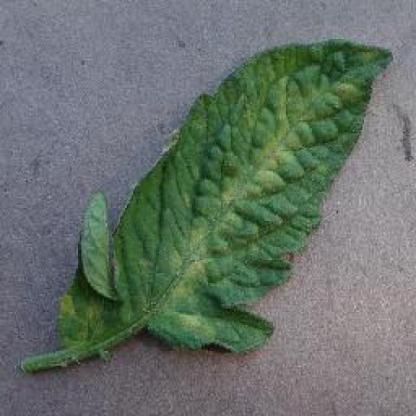Tomato_Leaf_Mold: (60, 43, 389, 353)
